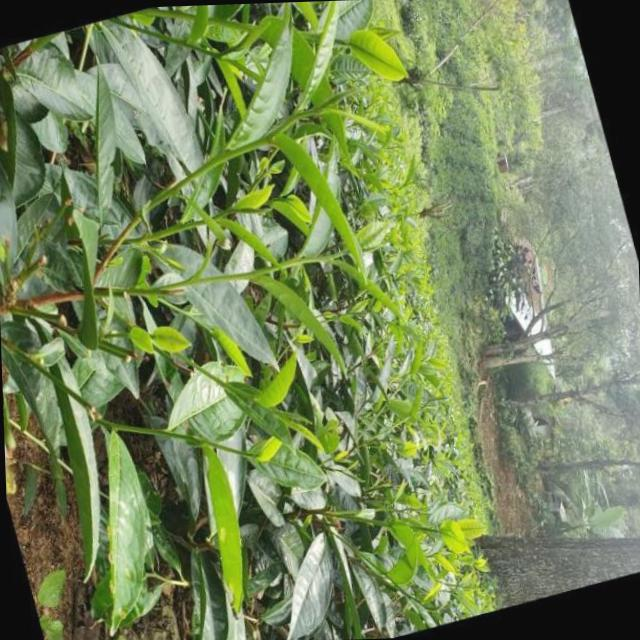Stem: (281, 113, 298, 129), (300, 254, 324, 262), (211, 373, 224, 385), (194, 218, 213, 226), (228, 446, 244, 454), (426, 527, 438, 532)
